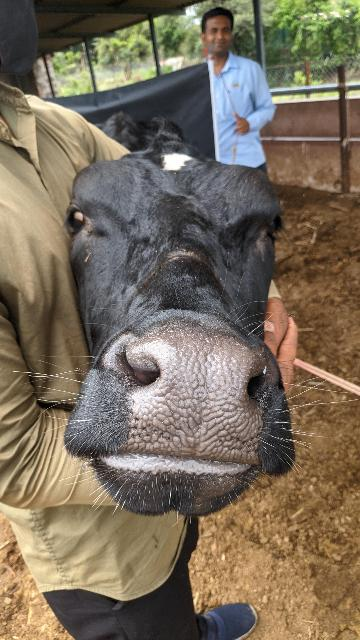Muzzle: (162, 336, 243, 454)
